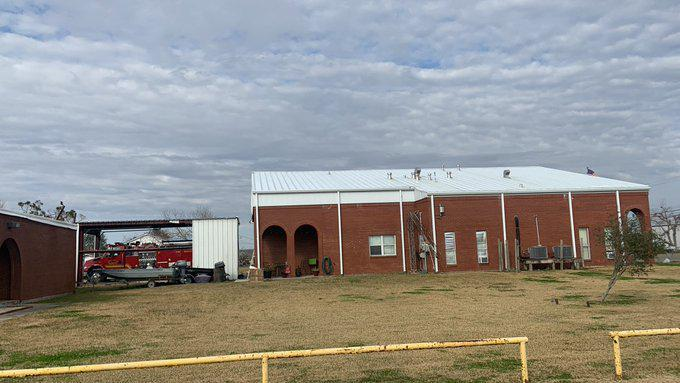affected: (254, 158, 657, 299)
